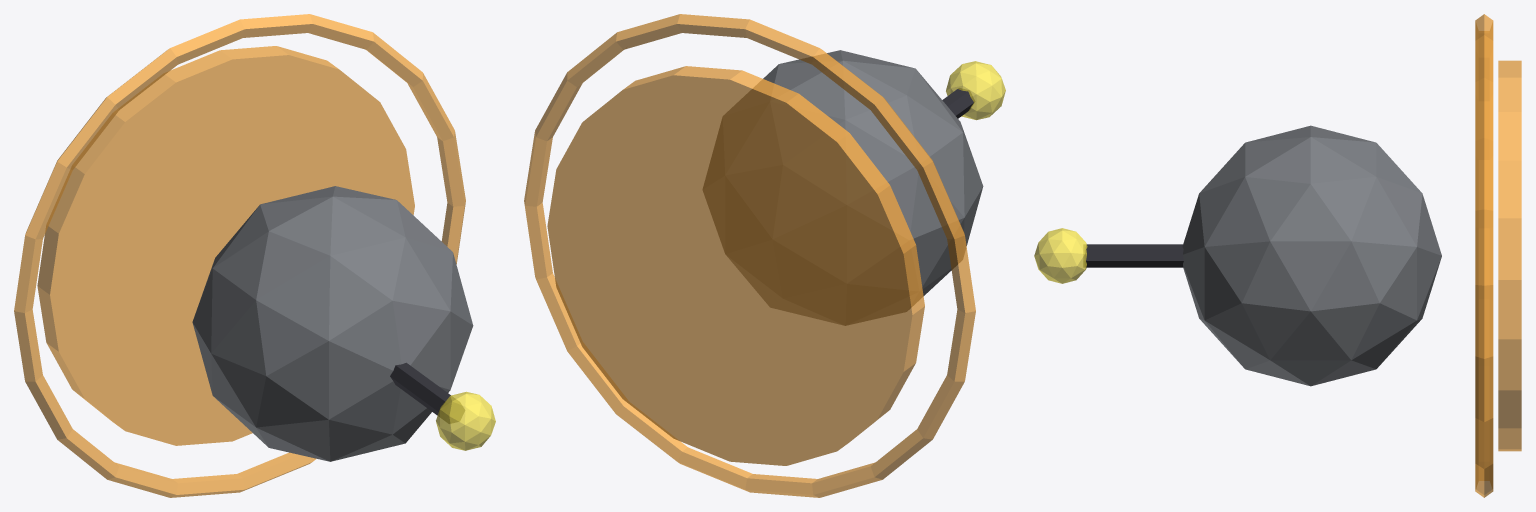
The model's file is 09_cannonball_projectile.glb.
The picture shows the model from 3 angles, left to right: view 1: azimuth 30°, elevation 25°; view 2: azimuth 150°, elevation 25°; view 3: azimuth 270°, elevation 25°; orthographic projection. The views are drawn at different scales.
Parts seen in each view (by area): view 1: base_disc, explosive_body, base_ring, spark, fuse; view 2: base_disc, explosive_body, base_ring, spark, fuse; view 3: explosive_body, base_disc, base_ring, fuse, spark.
Part boxes in pixels (left/top/right/bottom): base_disc: left=37, top=46, right=414, bottom=445; explosive_body: left=192, top=186, right=473, bottom=461; base_ring: left=14, top=14, right=465, bottom=497; spark: left=436, top=391, right=495, bottom=450; fuse: left=390, top=362, right=464, bottom=423; base_disc: left=547, top=66, right=924, bottom=465; explosive_body: left=703, top=50, right=983, bottom=325; base_ring: left=524, top=14, right=975, bottom=497; spark: left=946, top=61, right=1005, bottom=120; fuse: left=942, top=88, right=974, bottom=118; explosive_body: left=1182, top=125, right=1441, bottom=386; base_disc: left=1498, top=60, right=1521, bottom=451; base_ring: left=1475, top=14, right=1493, bottom=497; fuse: left=1084, top=244, right=1183, bottom=267; spark: left=1034, top=228, right=1087, bottom=283.
Size of the model in its own units: 1.04 by 1.04 by 1.04.
